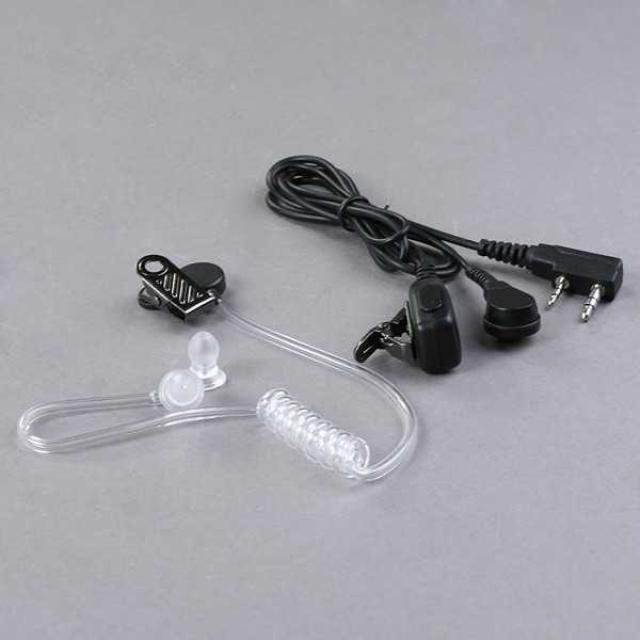microphone: (357, 270, 463, 376), (137, 256, 226, 321), (157, 332, 226, 412)
